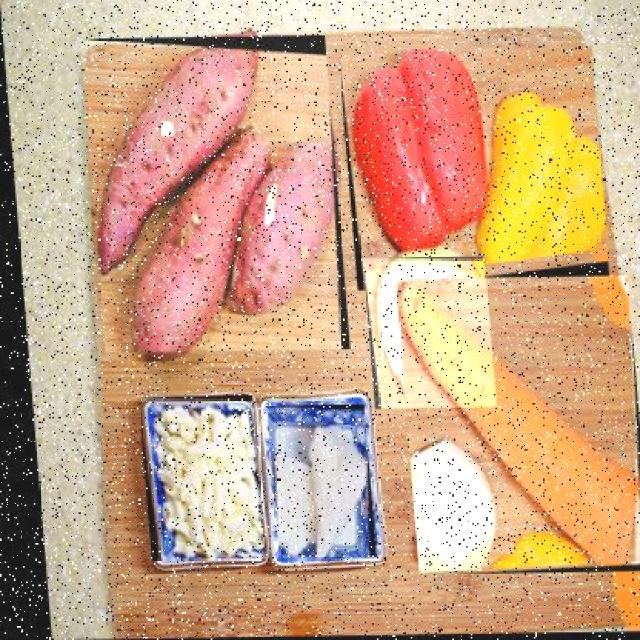Bell Pepper: (338, 49, 607, 293)
Butter: (261, 405, 368, 561)
Carrot: (390, 277, 638, 580)
Cheese: (132, 396, 258, 562)
Onion: (374, 429, 506, 583)
Sweet Potato: (89, 45, 335, 358)
